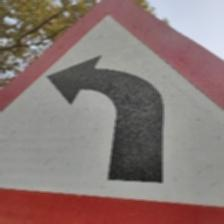Left-Turn: (1, 0, 222, 221)
